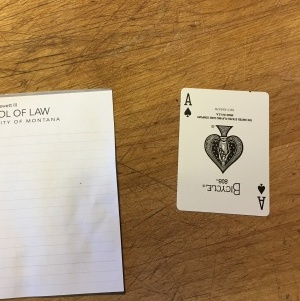card: (177, 85, 273, 216)
